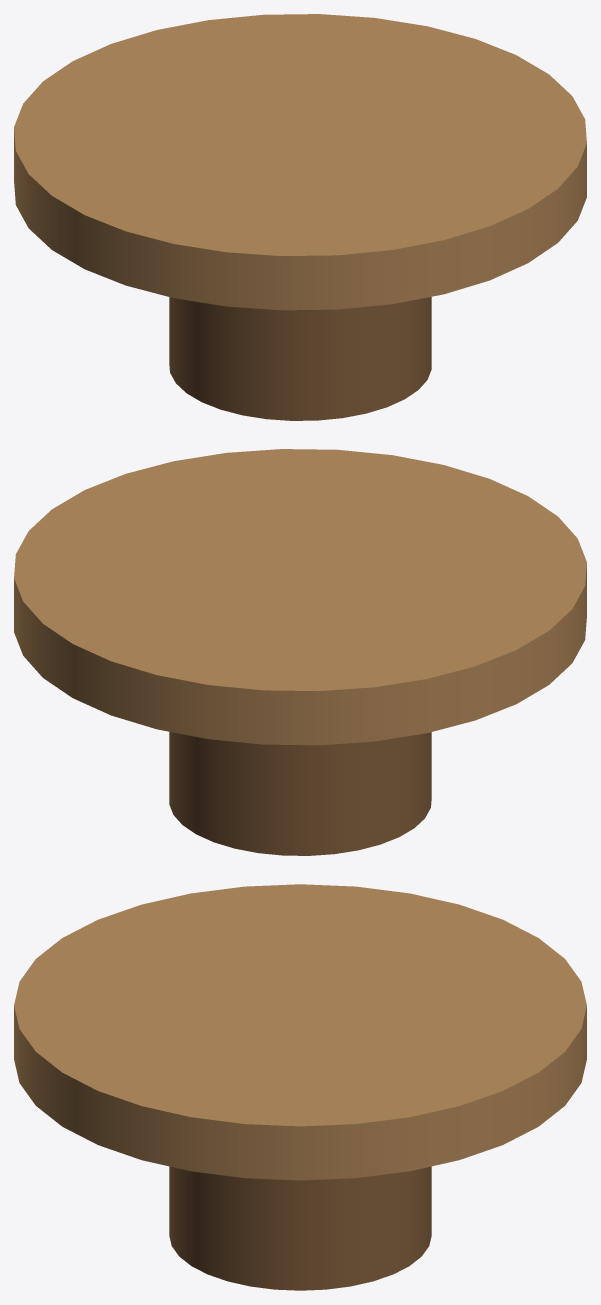
File: coffee-table.glb
3 views of the same model, one above another, from view 1: azimuth 30°, elevation 25°; view 2: azimuth 150°, elevation 25°; view 3: azimuth 270°, elevation 25° (orthographic).
Bounding box in the file's own units: 0.96 × 0.425 × 0.96.
